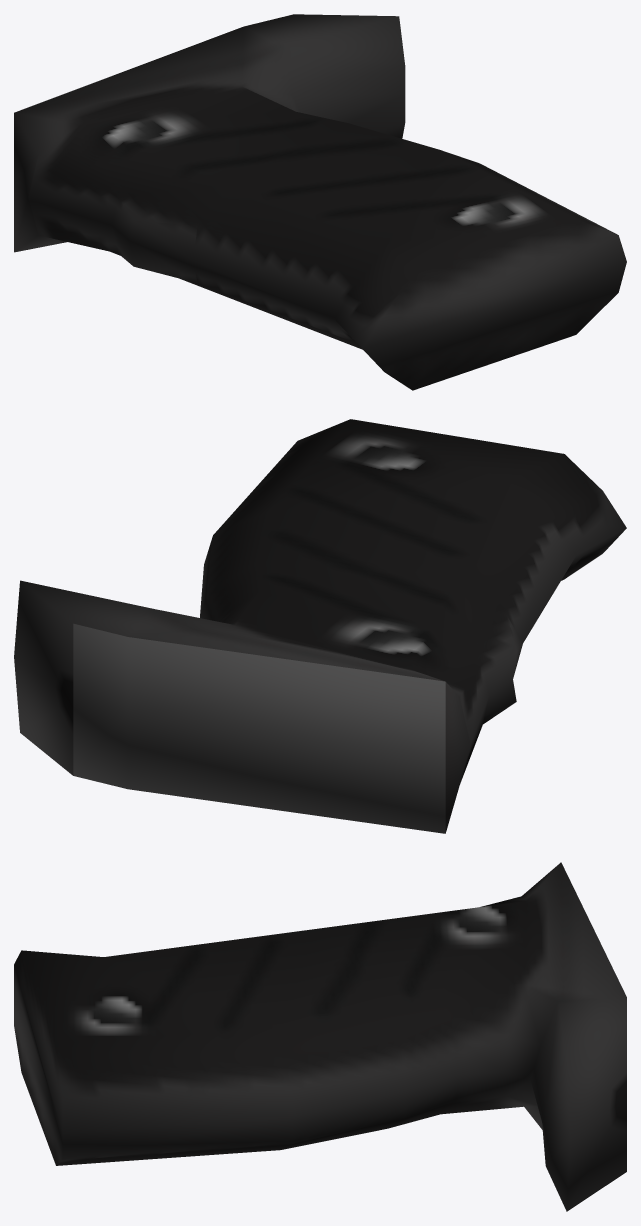
The model's file is Grip2_Ground.fbx.
3 renders of one model, top to bottom at view 1: azimuth 30°, elevation 25°; view 2: azimuth 150°, elevation 25°; view 3: azimuth 270°, elevation 25°, orthographic. The views are drawn at different scales.
Visible parts, largest first — view 1: Handgun02.X_.0002; view 2: Handgun02.X_.0002; view 3: Handgun02.X_.0002.
Boxes of the visible parts, <box> form: Handgun02.X_.0002: <box>14,14,626,390</box>; Handgun02.X_.0002: <box>14,419,626,833</box>; Handgun02.X_.0002: <box>14,862,626,1211</box>.
Bounding box in the file's own units: 0.0589 × 0.0199 × 0.0743.
